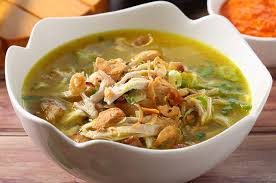soto: (14, 11, 272, 171)
